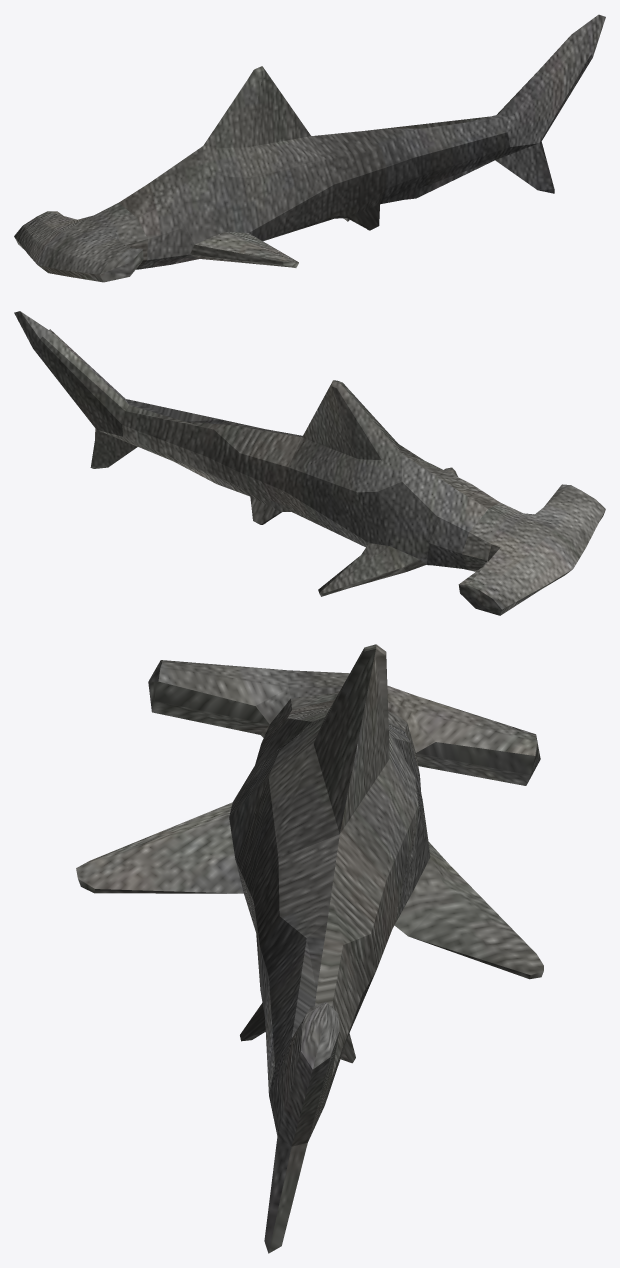
Rendered from tiburon1.obj.
3 views of the same model, one above another, from view 1: azimuth 30°, elevation 25°; view 2: azimuth 150°, elevation 25°; view 3: azimuth 270°, elevation 25° (orthographic). The views are drawn at different scales.
Parts seen in each view (by area): view 1: TiburonC:_Hammerhead_Shark_v2; view 2: TiburonC:_Hammerhead_Shark_v2; view 3: TiburonC:_Hammerhead_Shark_v2.
Boxes of the visible parts, x1,y1,x2,y2 form: TiburonC:_Hammerhead_Shark_v2: (14,14,605,282); TiburonC:_Hammerhead_Shark_v2: (14,311,605,615); TiburonC:_Hammerhead_Shark_v2: (76,644,543,1253).
Bounding box in the file's own units: 2.12 × 0.6416 × 0.7615.
1 material, 1 textured.
